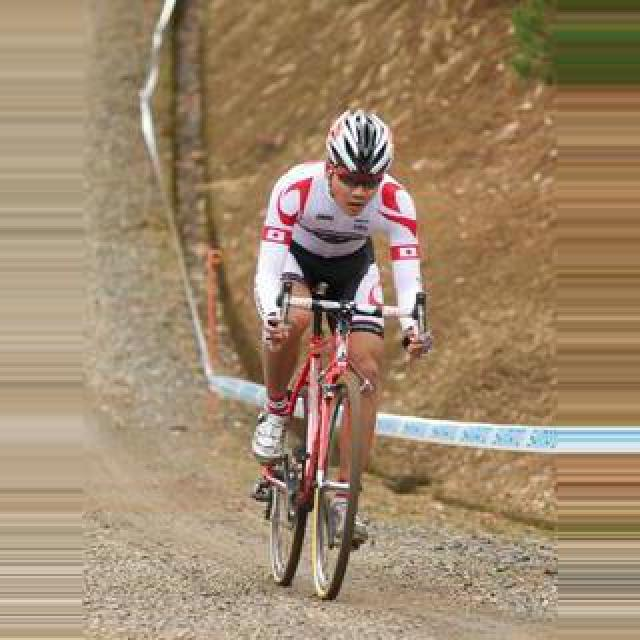MC-Bike: (244, 108, 430, 558)
Person: (251, 283, 393, 605)
